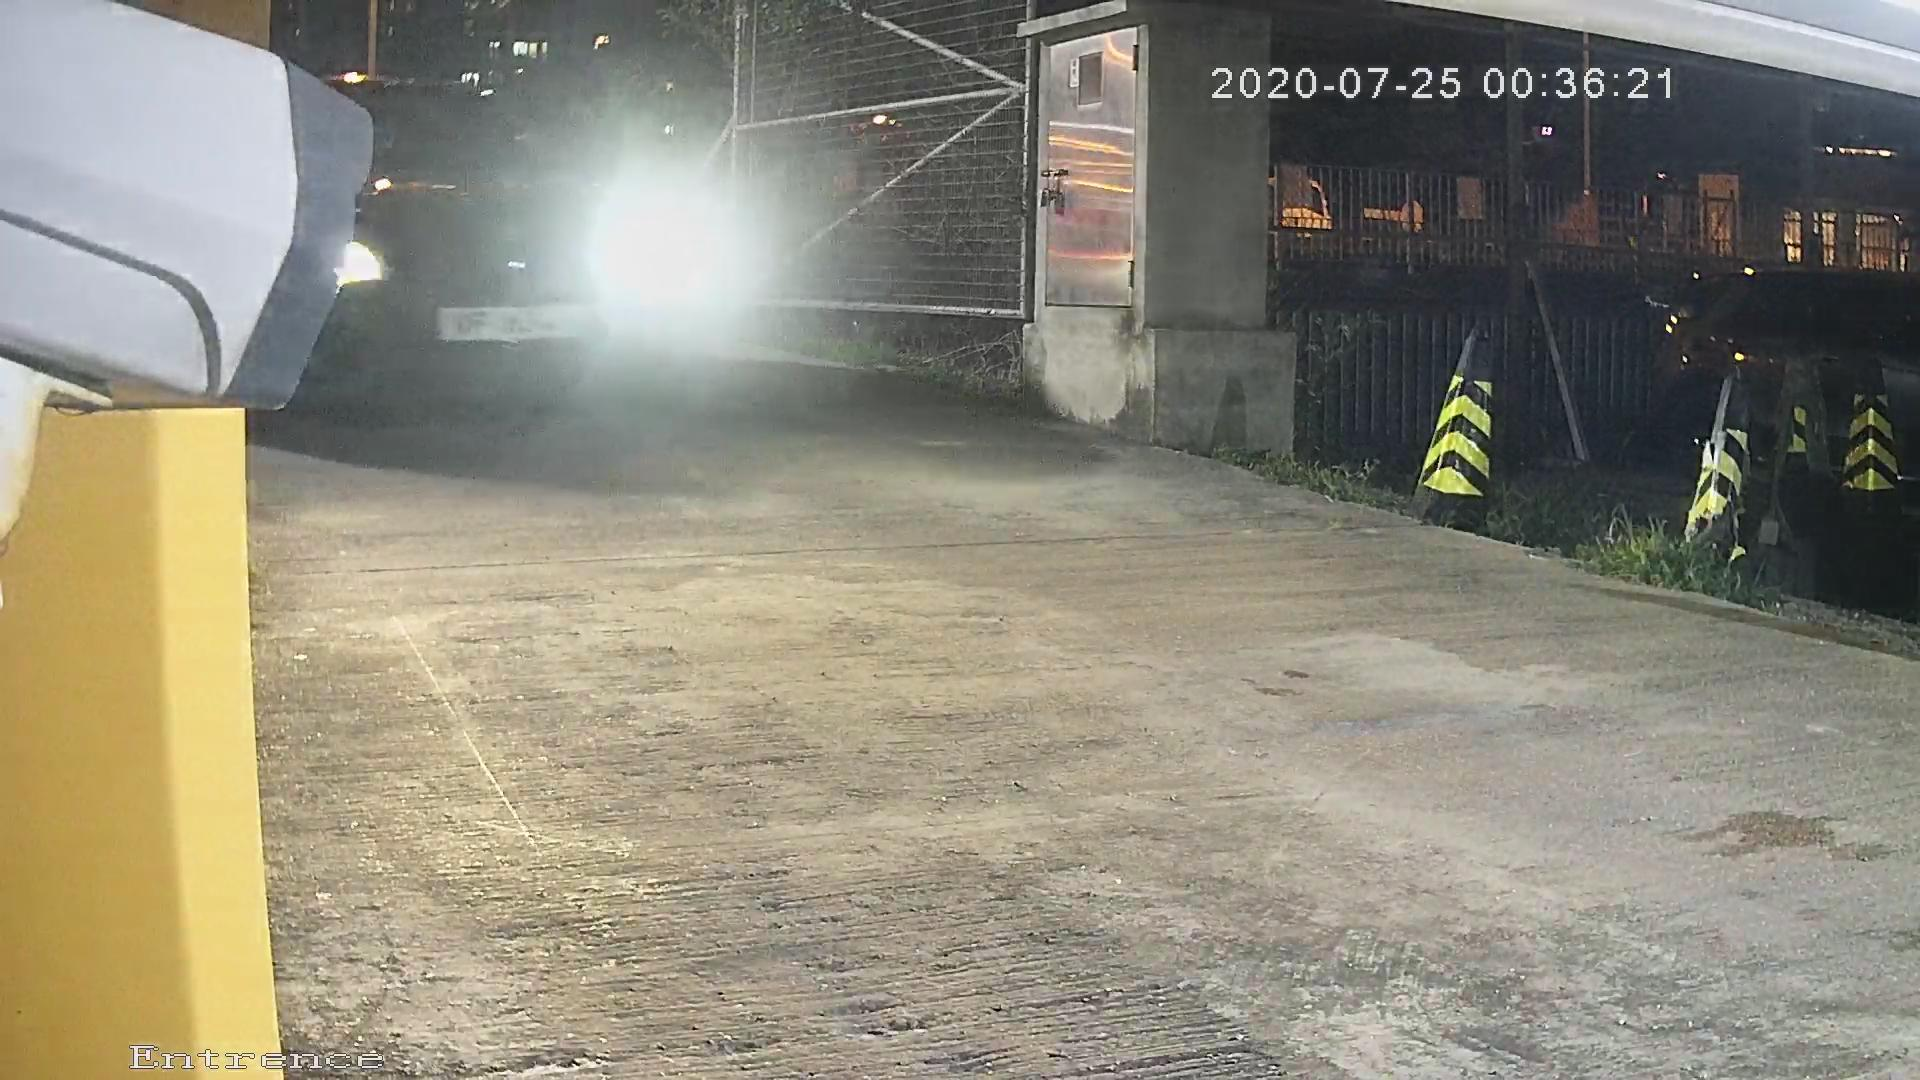License Plate: (413, 277, 631, 368)
